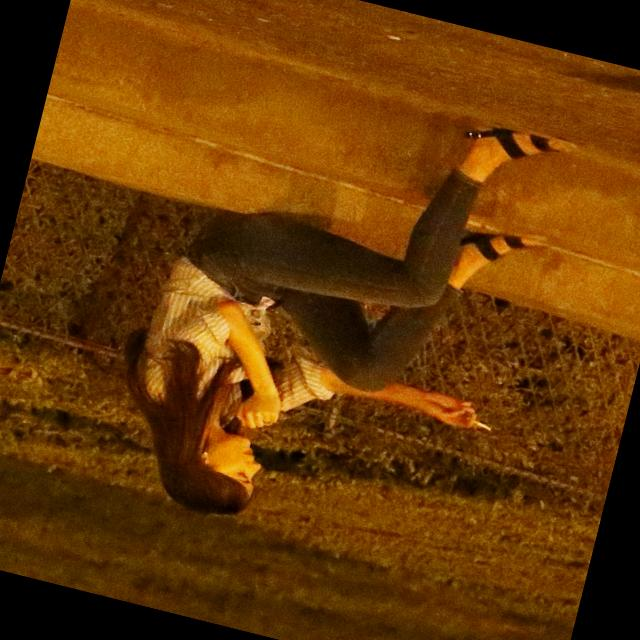smoke: (459, 414, 498, 443)
